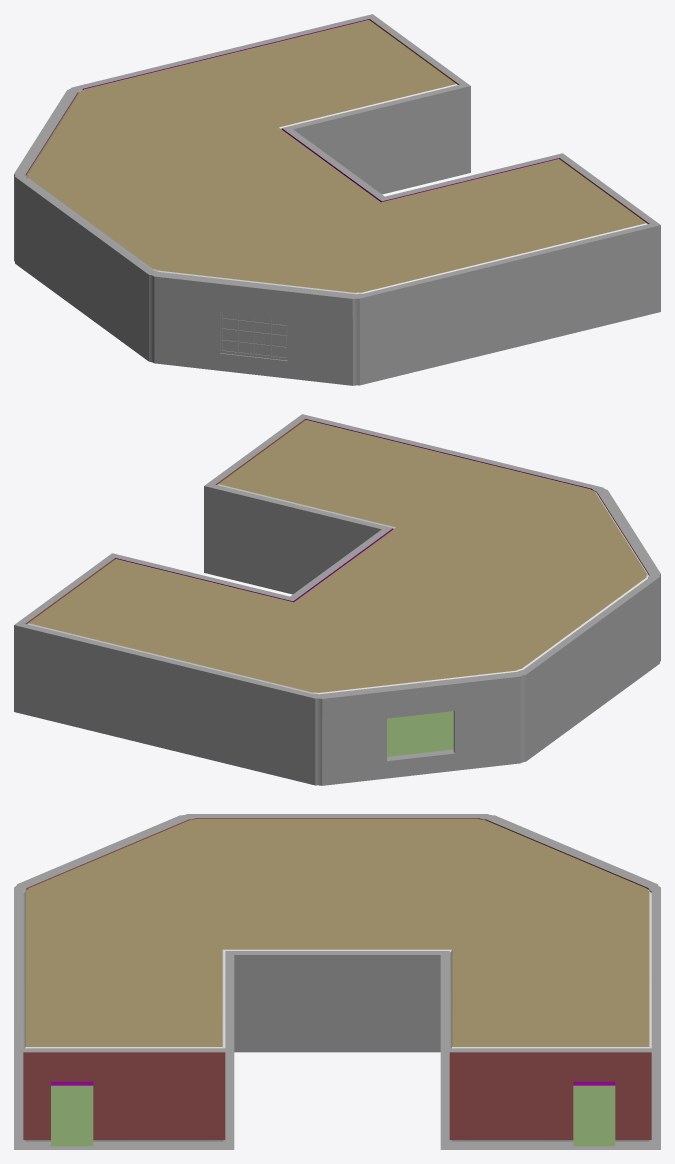
Rendered from RoomBase.fbx.
The picture shows the model from 3 angles, top to bottom: view 1: azimuth 30°, elevation 25°; view 2: azimuth 150°, elevation 25°; view 3: azimuth 270°, elevation 25°; orthographic projection. The views are drawn at different scales.
Parts seen in each view (by area): view 1: Ceiling_Low, Base_Low, Wind_Frame1; view 2: Ceiling_Low, Base_Low; view 3: Ceiling_Low, Base_Low.
Part boxes in pixels (x1,y1,x2,y2): Ceiling_Low: (26,20,647,294); Base_Low: (14,14,660,385); Wind_Frame1: (220,311,287,360); Ceiling_Low: (27,420,648,694); Base_Low: (14,414,660,785); Ceiling_Low: (23,818,651,1048); Base_Low: (14,814,660,1149).
Size of the model in its own units: 15 by 2.88 by 17.22.
